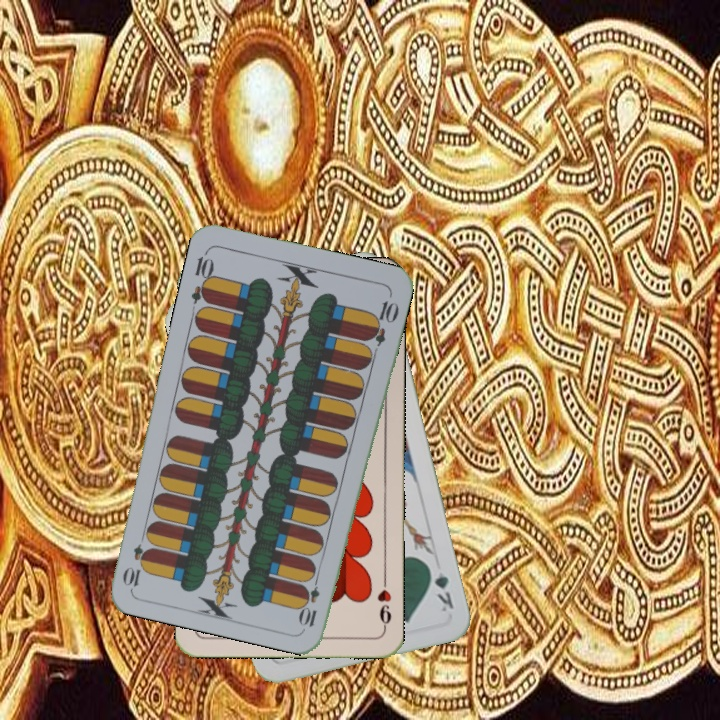E10: (187, 247, 217, 306), (298, 570, 322, 630)
GK: (424, 560, 456, 615)
H9: (373, 573, 394, 632)
